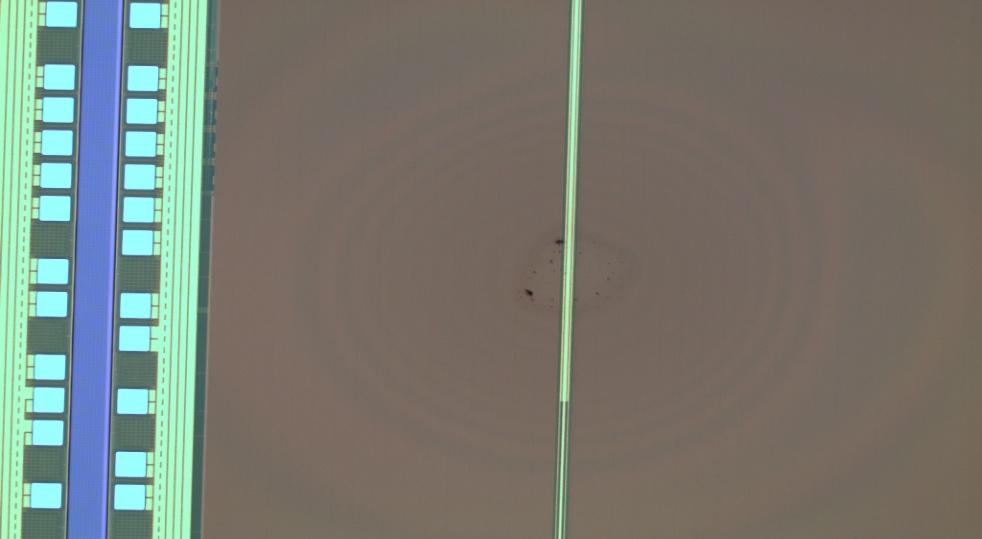PIQ PARTICLE: (515, 232, 620, 307)
